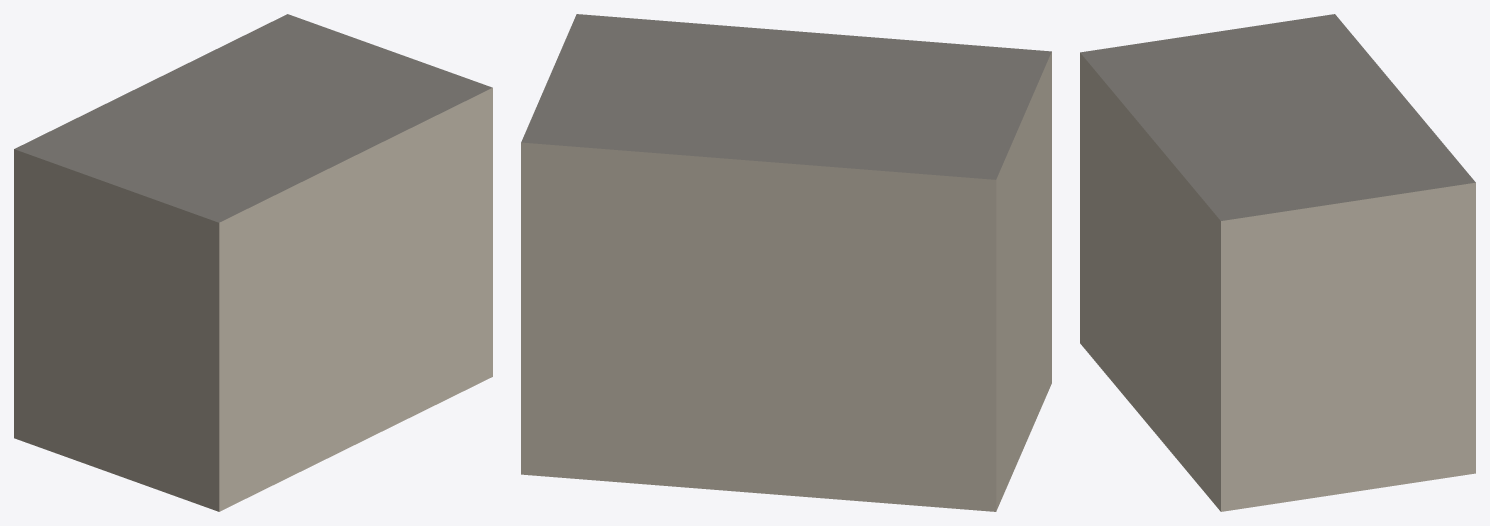
The picture shows the model from 3 angles, left to right: view 1: azimuth 30°, elevation 25°; view 2: azimuth 150°, elevation 25°; view 3: azimuth 270°, elevation 25°; orthographic projection. The views are drawn at different scales.
Visible parts, largest first — view 1: HP-w1198048993; view 2: HP-w1198048993; view 3: HP-w1198048993.
Part boxes in pixels (x1=…): HP-w1198048993: x1=14, y1=14, x2=492, y2=511; HP-w1198048993: x1=521, y1=14, x2=1051, y2=511; HP-w1198048993: x1=1080, y1=14, x2=1475, y2=511.
Bounding box in the file's own units: 27.49 × 18 × 22.21.
